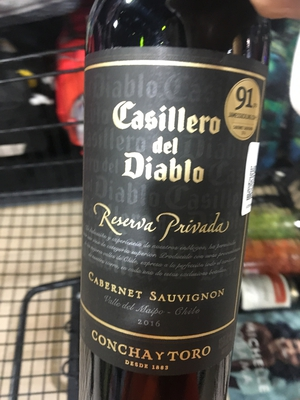casillero del diablo reserva privada cabernet sauvignon: (70, 9, 272, 400)
